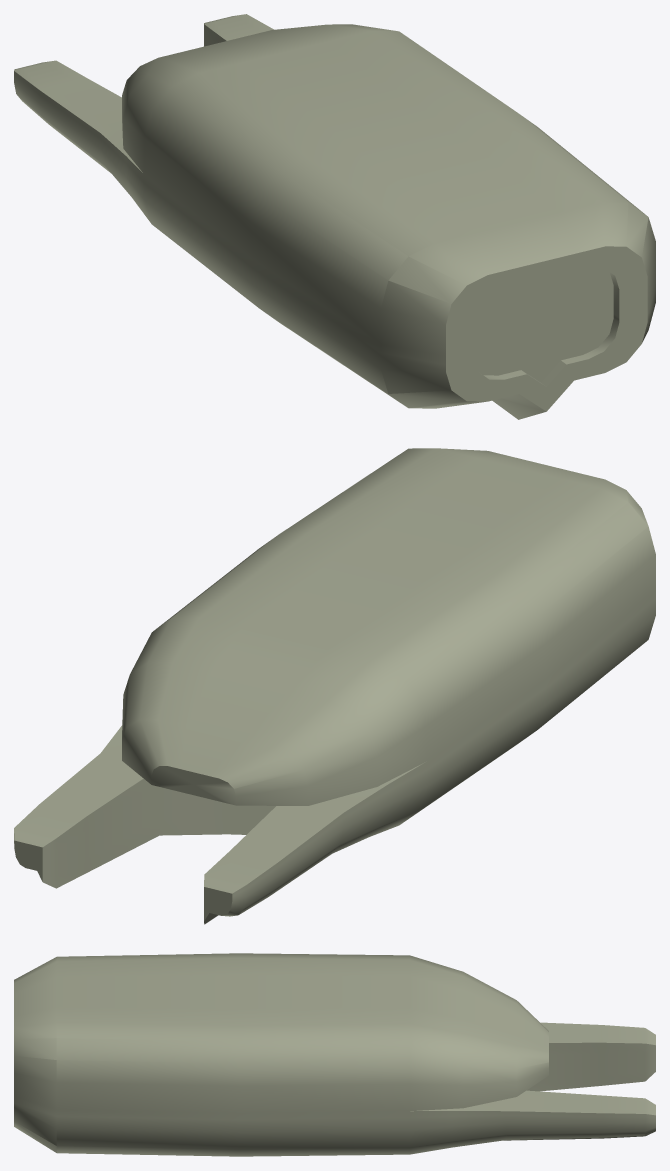
The model's file is kelvane_fighter.glb.
3 views of the same model, one above another, from view 1: azimuth 30°, elevation 25°; view 2: azimuth 150°, elevation 25°; view 3: azimuth 270°, elevation 25° (orthographic). The views are drawn at different scales.
Parts seen in each view (by area): view 1: hull; view 2: hull; view 3: hull.
Part boxes in pixels (x1,y1,x2,y2): hull: (14,14,655,419); hull: (14,448,655,924); hull: (14,953,655,1156).
Size of the model in its own units: 5.6 by 3.6 by 14.
